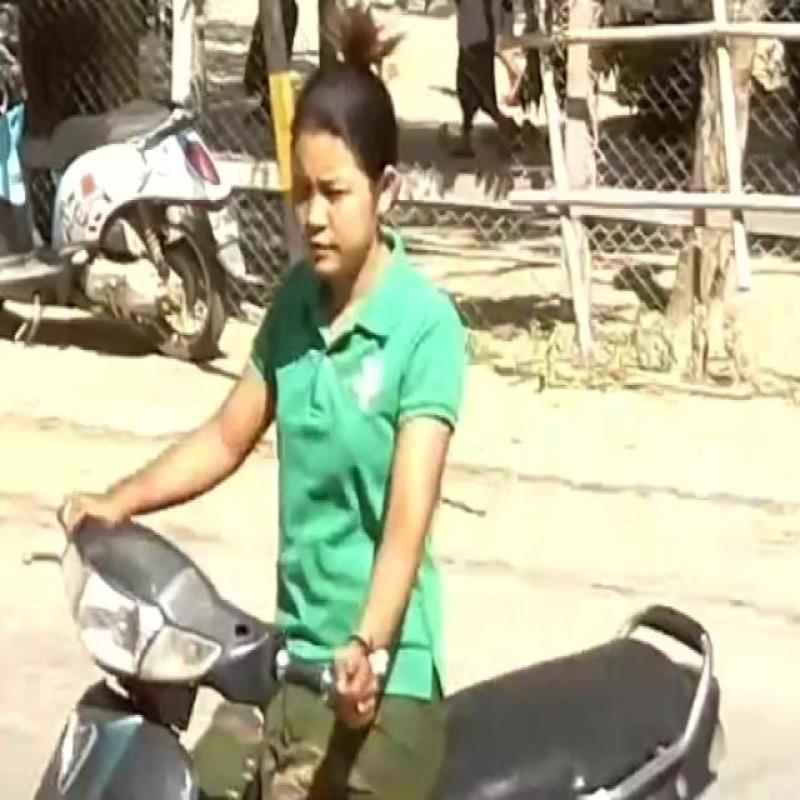nohelmet: (270, 65, 435, 315)
